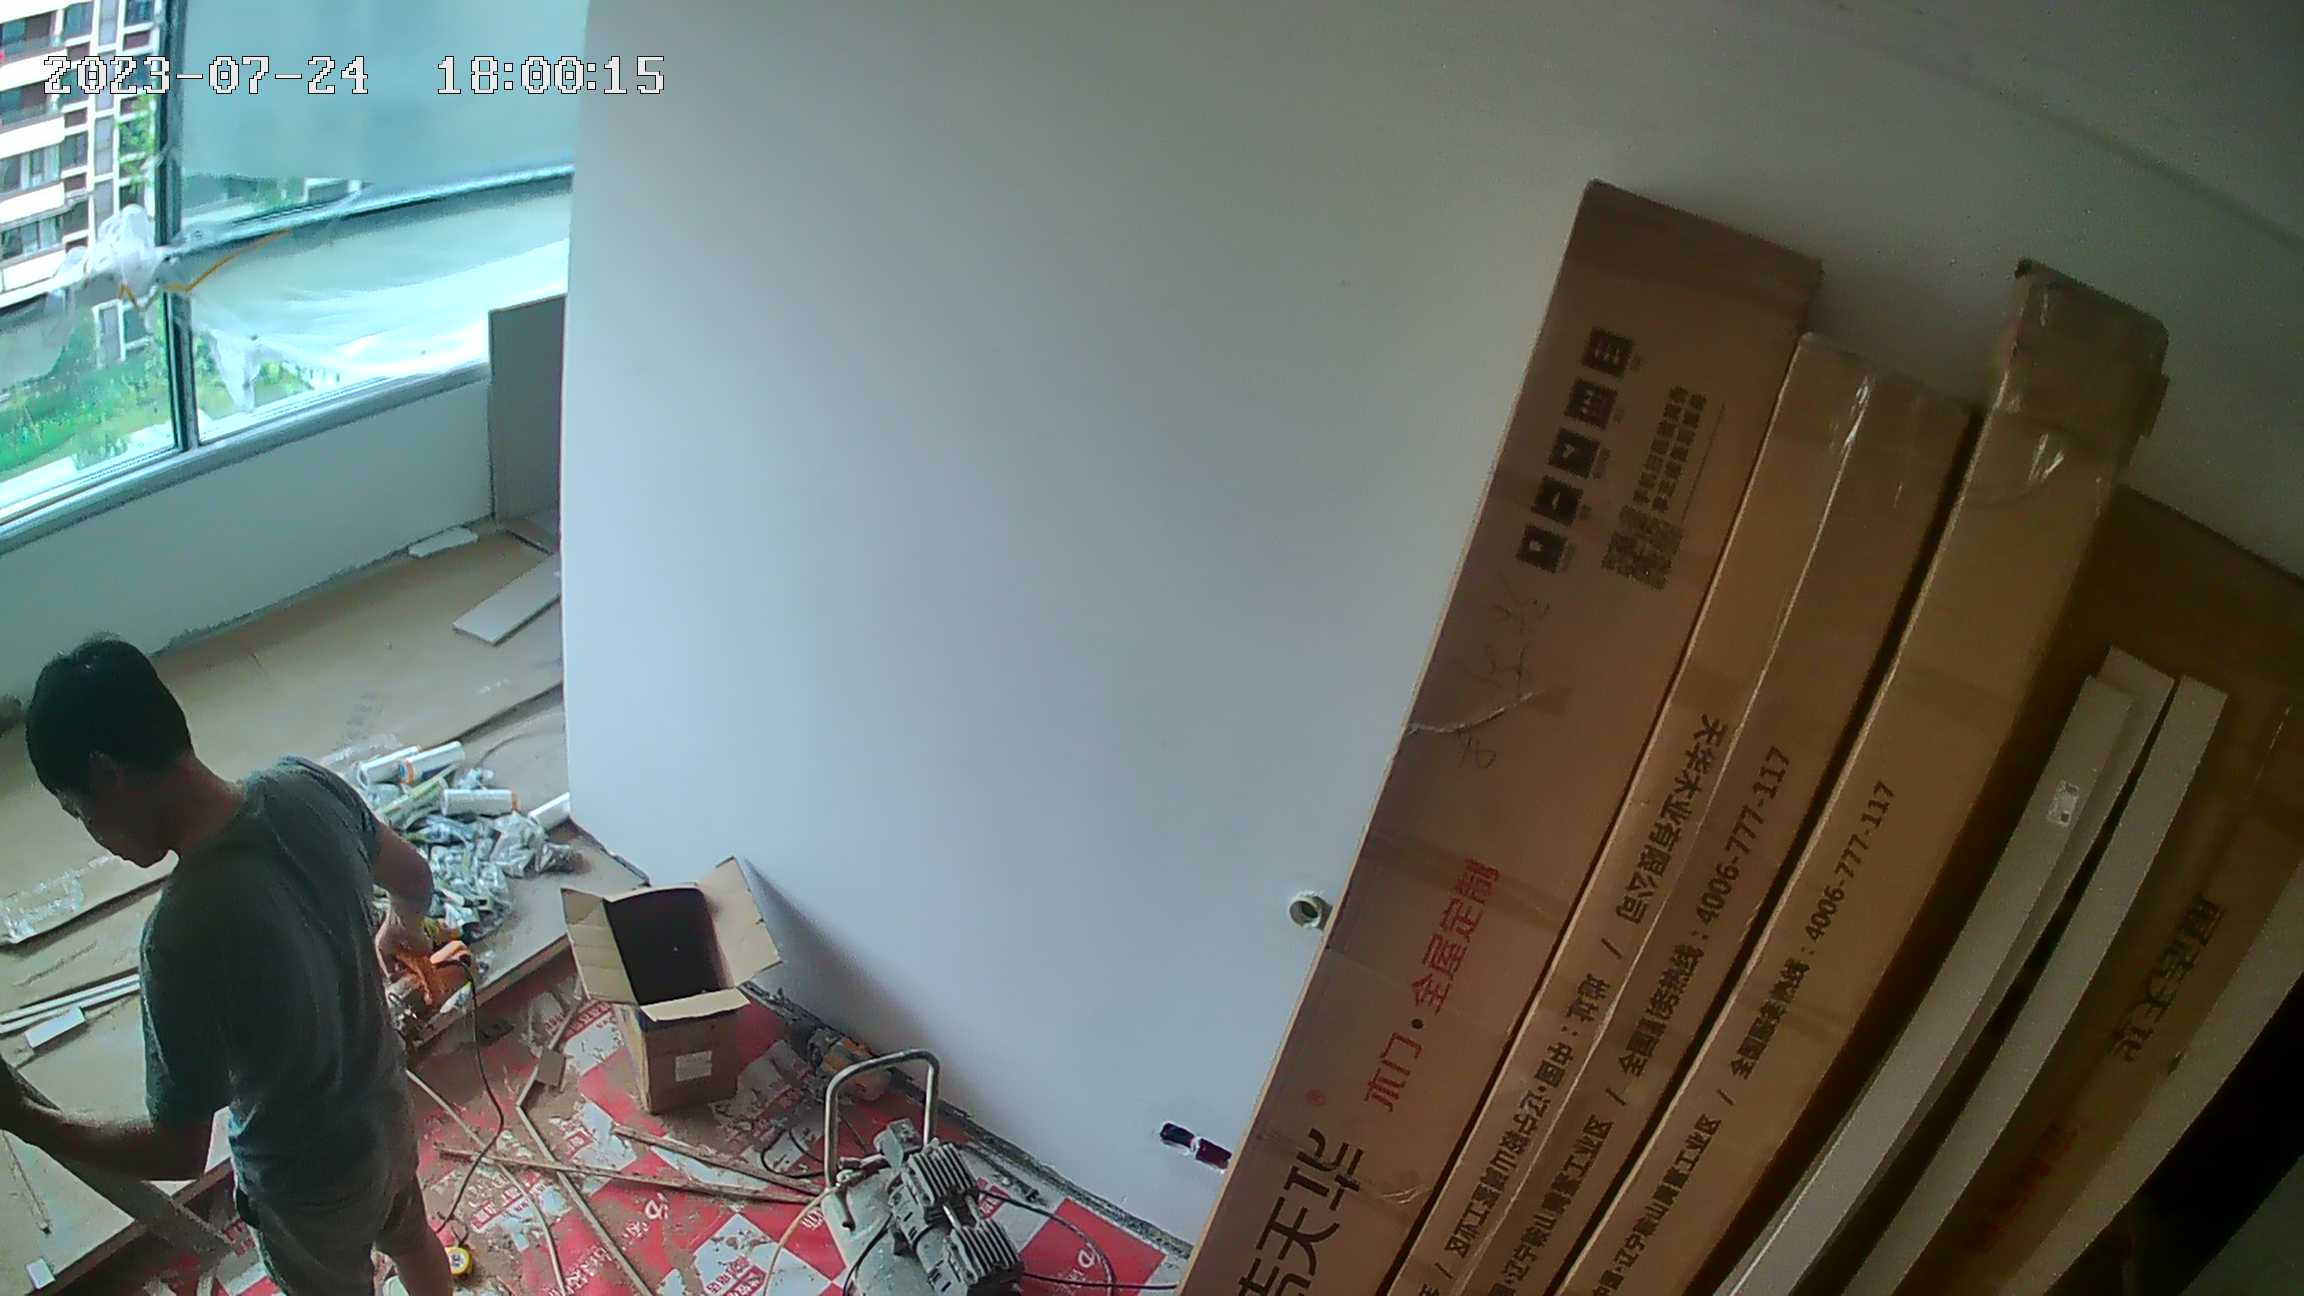people: (1, 631, 461, 1289)
window: (7, 4, 591, 520)
